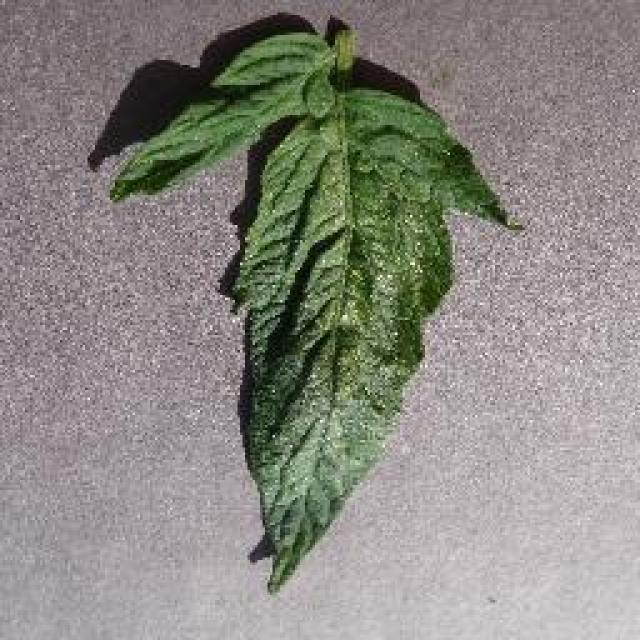Tomato___Spider_mites Two-spotted_spider_mite: (110, 28, 518, 590)
